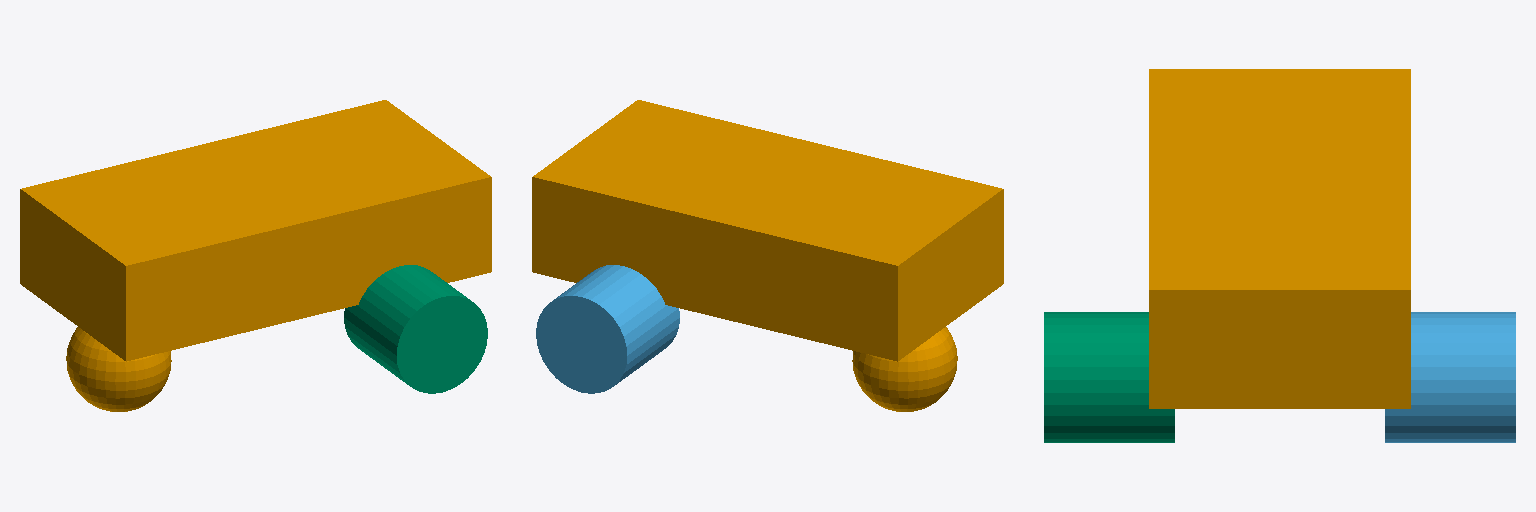
robot.urdf — rrbot:
<?xml version="1.0"?>

<!-- Revolute-Revolute Manipulator -->
<robot name="rrbot" xmlns:xacro="http://www.ros.org/wiki/xacro">

 <link name='base_link'>
      <collision name='collision'>
        <origin xyz="0 0 .1 " rpy="0 0 0"/>
        <geometry>
          <box  size=".4 .2 .1"/>
        </geometry>
      </collision>

      <visual name='visual'>
        <origin xyz="0 0 .1 " rpy="0 0 0"/>
        <geometry>
          <box  size=".4 .2 .1"/>
        </geometry>
      </visual>

      <collision name='caster_collision'>
        <origin xyz="-0.15 0 0" rpy="0 0 0"/>
        <geometry>
          <sphere radius=".05"/>
        </geometry>

        <surface>
         <friction>
          <ode>
            <mu>0</mu>
            <mu2>0</mu2>
            <slip1>1.0</slip1>
            <slip2>1.0</slip2>
          </ode>
         </friction>
        </surface>

      </collision>

      <visual name='caster_visual'>
        <origin xyz="-0.15 0 0" rpy="0 0 0"/>
        <geometry>
          <sphere radius=".05"/>
        </geometry>
      </visual>

     <inertial>
        <mass value="1e-5" />
        <origin xyz="0 0 .1 " rpy="0 0 0"/>
        <inertia ixx="1e-6" ixy="0" ixz="0" iyy="1e-6" iyz="0" izz="1e-6" />
     </inertial>
  </link> 



  <link name="left_wheel">
    <collision name="collision">
      <origin xyz="0.1 0.13 0.0" rpy="0 1.5707 1.5707"/>
      <geometry>
         <cylinder length="0.1" radius="0.05"/>
      </geometry>
    </collision>
    <visual name="visual">
      <origin xyz="0.1 0.13 0.0" rpy="0 1.5707 1.5707"/>
      <geometry>
        <cylinder length="0.1" radius="0.05"/>
      </geometry>
    </visual>
    <inertial>
      <mass value="1e-5" />
      <origin xyz="0.1 0.13 0.0"/>
      <inertia ixx="1e-6" ixy="0" ixz="0" iyy="1e-6" iyz="0" izz="1e-6" />
    </inertial>
  </link>

  <link name="right_wheel">
    <collision name="collision">
      <origin xyz="0.1 -0.13 0.0" rpy="0 1.5707 1.5707"/>
      <geometry>
         <cylinder length="0.1" radius="0.05"/>
      </geometry>
    </collision>
    <visual name="visual">
      <origin xyz="0.1 -0.13 0.0" rpy="0 1.5707 1.5707"/>
      <geometry>
        <cylinder length="0.1" radius="0.05"/>
      </geometry>
    </visual>
    <inertial>
      <mass value="1e-5" />
      <origin xyz="0.1 -0.13 0.0"/>
      <inertia ixx="1e-6" ixy="0" ixz="0" iyy="1e-6" iyz="0" izz="1e-6" />
    </inertial>
  </link>


  <joint type="revolute" name="joint1">
    <origin xyz="0.0 0.0 0.03" rpy="0 0 0"/>
    <child link="left_wheel">left_wheel</child>
    <parent link="base_link">base_link</parent>
    <axis xyz="0 1 0"/>
    <limit effort="30" velocity="1.0"  />
  </joint>

  <joint type="revolute" name="joint2">
    <origin xyz="0.0 0.0 0.03" rpy="0 0 0"/>
    <child link="right_wheel">right_wheel</child>
     <parent link="base_link">base_link</parent>
     <axis xyz="0 1 0"/>>
    <limit effort="30" velocity="1.0"  />
  </joint>

  <transmission name="tran1">
    <type>transmission_interface/SimpleTransmission</type>
    <joint name="joint1"/>
    <actuator name="motor1">
      <hardwareInterface>EffortJointInterface</hardwareInterface>
      <mechanicalReduction>1</mechanicalReduction>
    </actuator>
  </transmission>

  <transmission name="tran2">
    <type>transmission_interface/SimpleTransmission</type>
    <joint name="joint2"/>
    <actuator name="motor2">
      <hardwareInterface>EffortJointInterface</hardwareInterface>
      <mechanicalReduction>1</mechanicalReduction>
    </actuator>
  </transmission>


</robot>

--- Facts derived from the render (not from the file) ---
The picture shows the robot from 3 angles, left to right: view 1: azimuth 30°, elevation 25°; view 2: azimuth 150°, elevation 25°; view 3: azimuth 270°, elevation 25°; orthographic projection.
Robot: rrbot — 3 links, 2 joints (2 revolute); root link base_link; default pose: all joints at 0.
Links seen in each view (by area): view 1: base_link, right_wheel; view 2: base_link, left_wheel; view 3: base_link, left_wheel, right_wheel.
Boxes of the visible links, <box> form: base_link: <box>20,100,491,411</box>; right_wheel: <box>344,265,487,393</box>; base_link: <box>532,100,1003,411</box>; left_wheel: <box>536,265,679,393</box>; base_link: <box>1149,69,1410,408</box>; left_wheel: <box>1385,312,1515,442</box>; right_wheel: <box>1044,312,1174,442</box>.
Bounding box of the posed robot: 0.4 × 0.36 × 0.2 m (x, y, z).
Geometry: primitives only (box / cylinder / sphere), no mesh files.